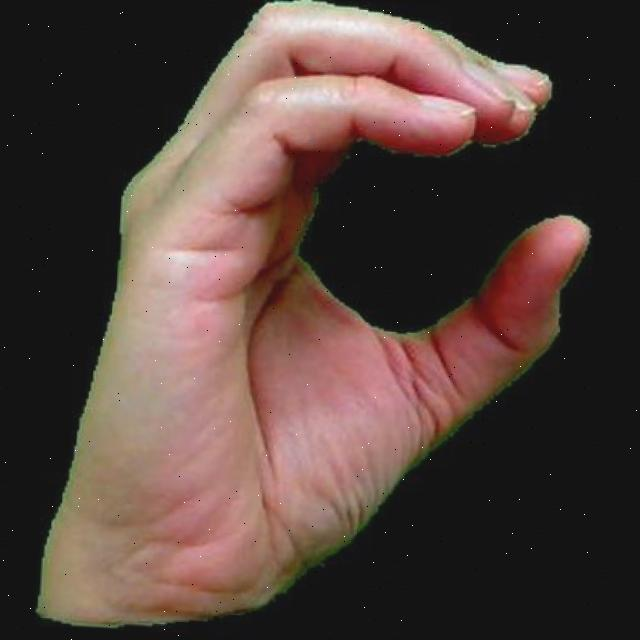c: (20, 0, 603, 640)
